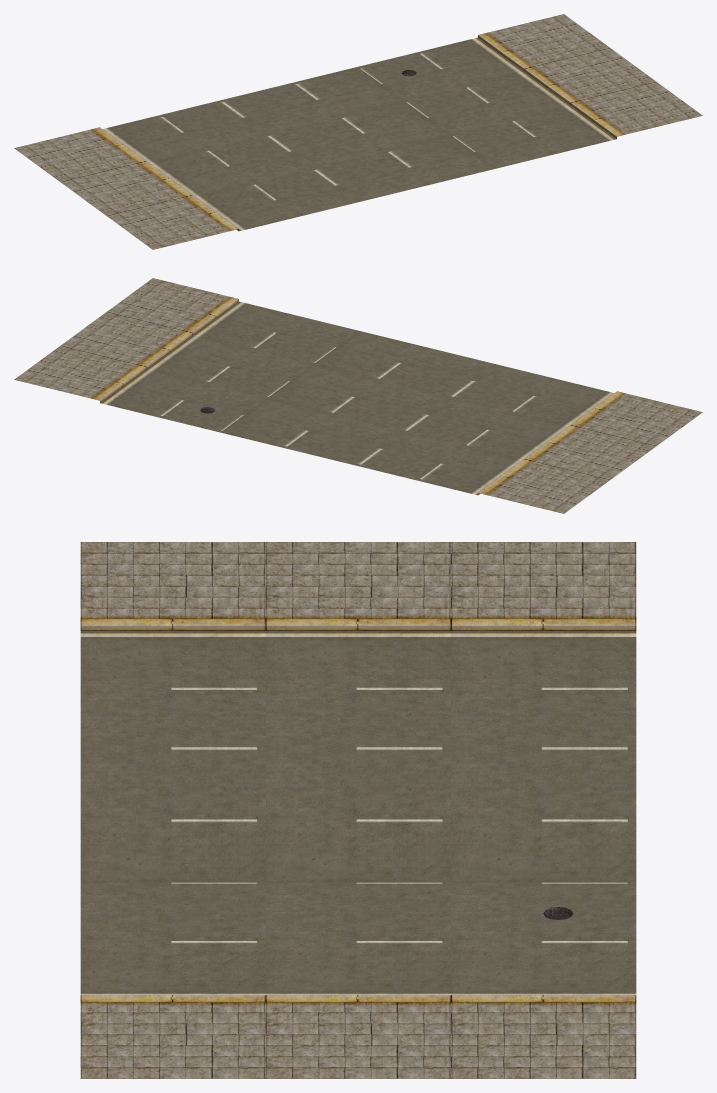
File: Road2_Part_03_C.fbx
3 renders of one model, top to bottom at view 1: azimuth 30°, elevation 25°; view 2: azimuth 150°, elevation 25°; view 3: azimuth 270°, elevation 25°, orthographic. The views are drawn at different scales.
Visible parts, largest first — view 1: Model_Road2_Part_03_C; view 2: Model_Road2_Part_03_C; view 3: Model_Road2_Part_03_C.
Part boxes in pixels (left/top/right/bottom): Model_Road2_Part_03_C: left=14, top=14, right=702, bottom=249; Model_Road2_Part_03_C: left=14, top=278, right=702, bottom=513; Model_Road2_Part_03_C: left=80, top=542, right=636, bottom=1078.
Size of the model in its own units: 3200 by 13.71 by 1400.
